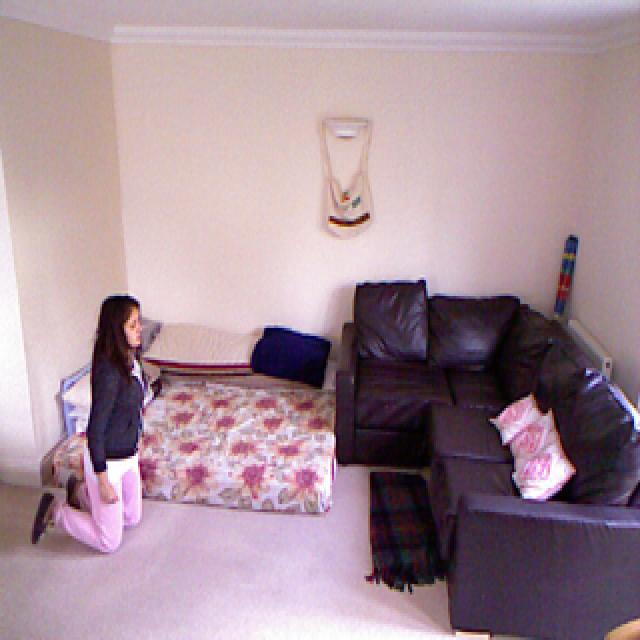crawling: (34, 289, 157, 579)
